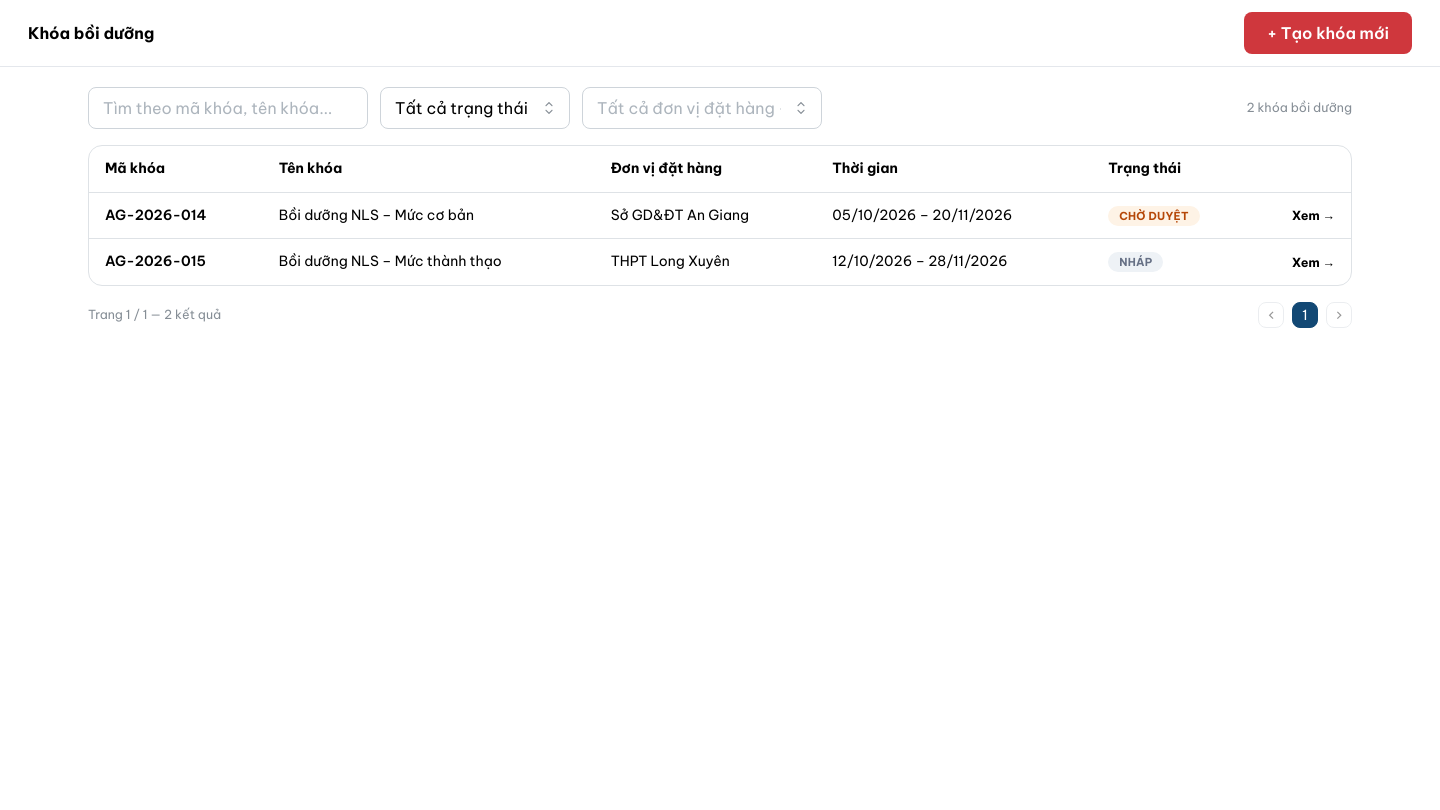
Test case: Admin — Danh sách khóa bồi dưỡng › vai_tro=quan_tri: thấy nút "+ Tạo khóa mới"; mở modal không còn chữ "Đơn vị tổ chức"
Expected: the text "Bồi dưỡng NLS – Mức cơ bản" is shown, 263,192 -> 595,239
Click the button "+ Tạo khóa mới" at (1328, 33), box 1244,12 -> 1412,54
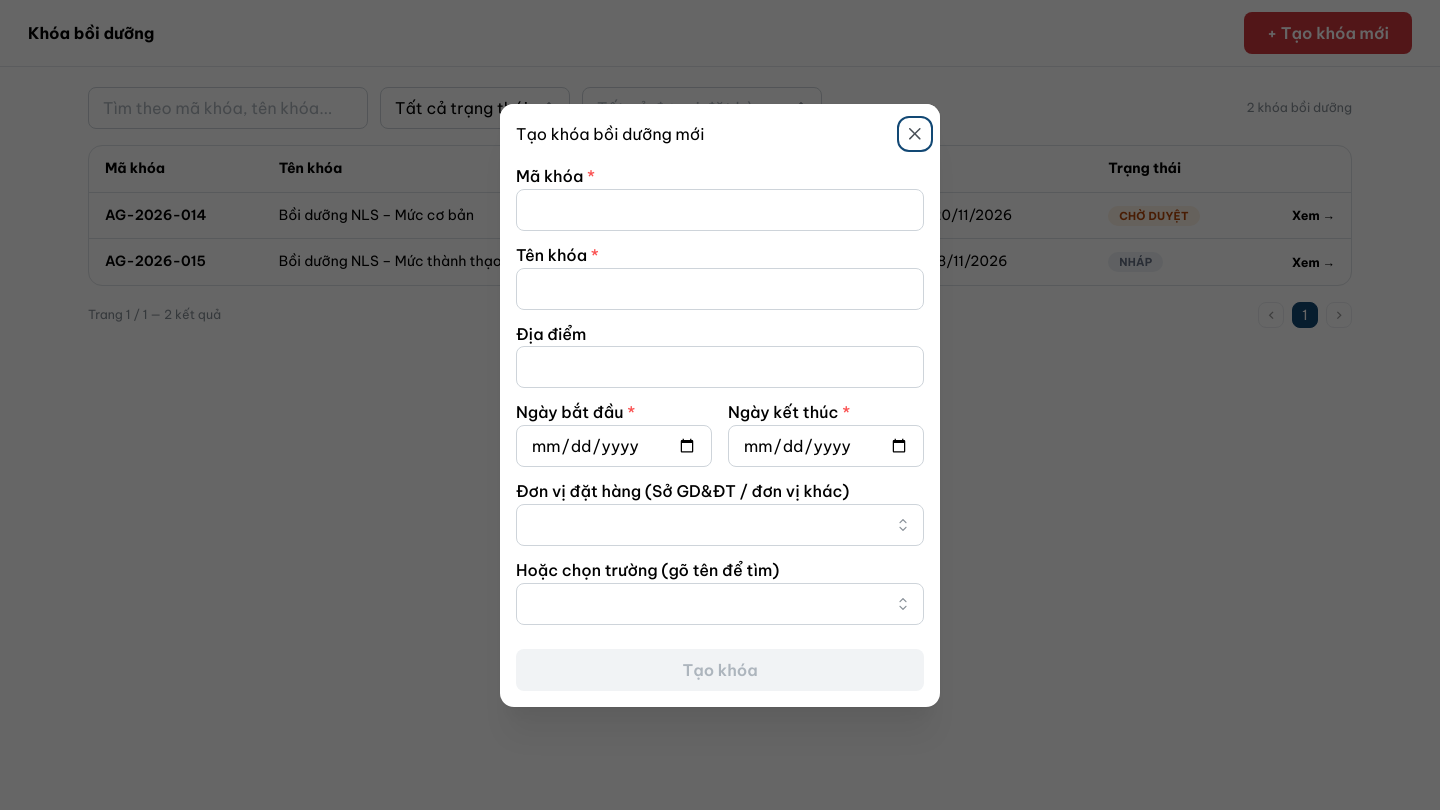
Result: the field labelled "Đơn vị đặt hàng (Sở GD&ĐT / đơn vị khác)" is shown at 516,504 -> 924,546
